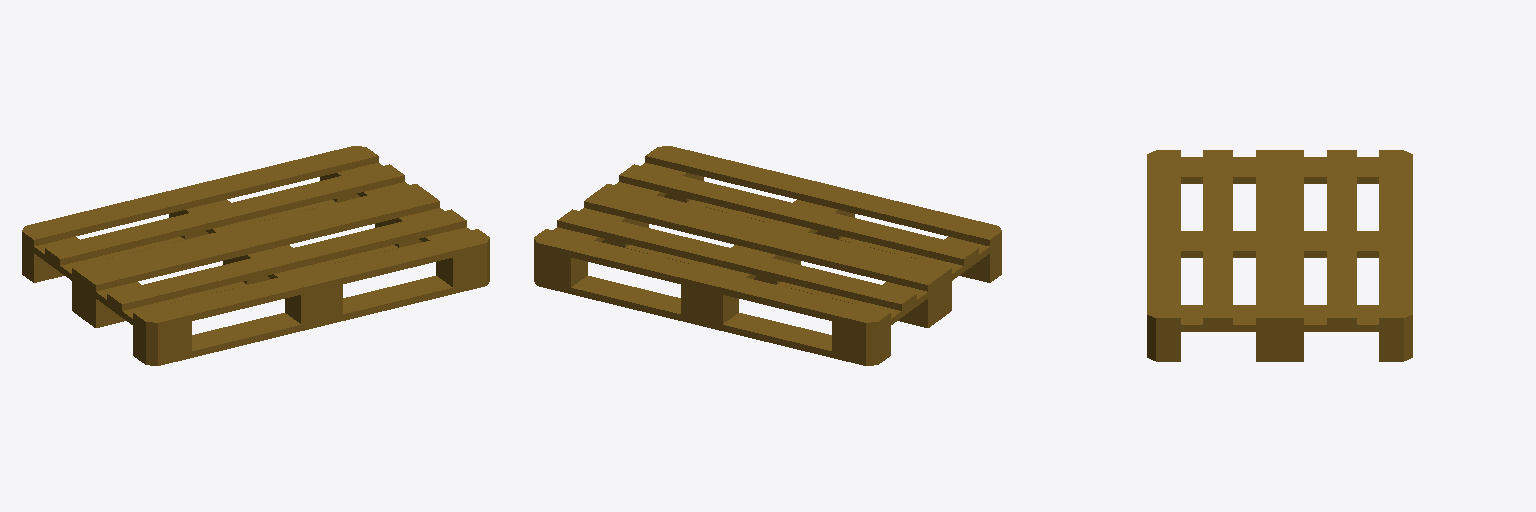
Rendered from pallet.obj.
The picture shows the model from 3 angles: view 1: azimuth 30°, elevation 25°; view 2: azimuth 150°, elevation 25°; view 3: azimuth 270°, elevation 25°; orthographic projection.
Parts seen in each view (by area): view 1: Palette_Cube.014; view 2: Palette_Cube.014; view 3: Palette_Cube.014.
Boxes of the visible parts, box(x1,y1,x2,y2) form: Palette_Cube.014: box(22, 146, 489, 365); Palette_Cube.014: box(534, 146, 1001, 365); Palette_Cube.014: box(1147, 150, 1412, 361).
Size of the model in its own units: 1.2 by 0.144 by 0.8.